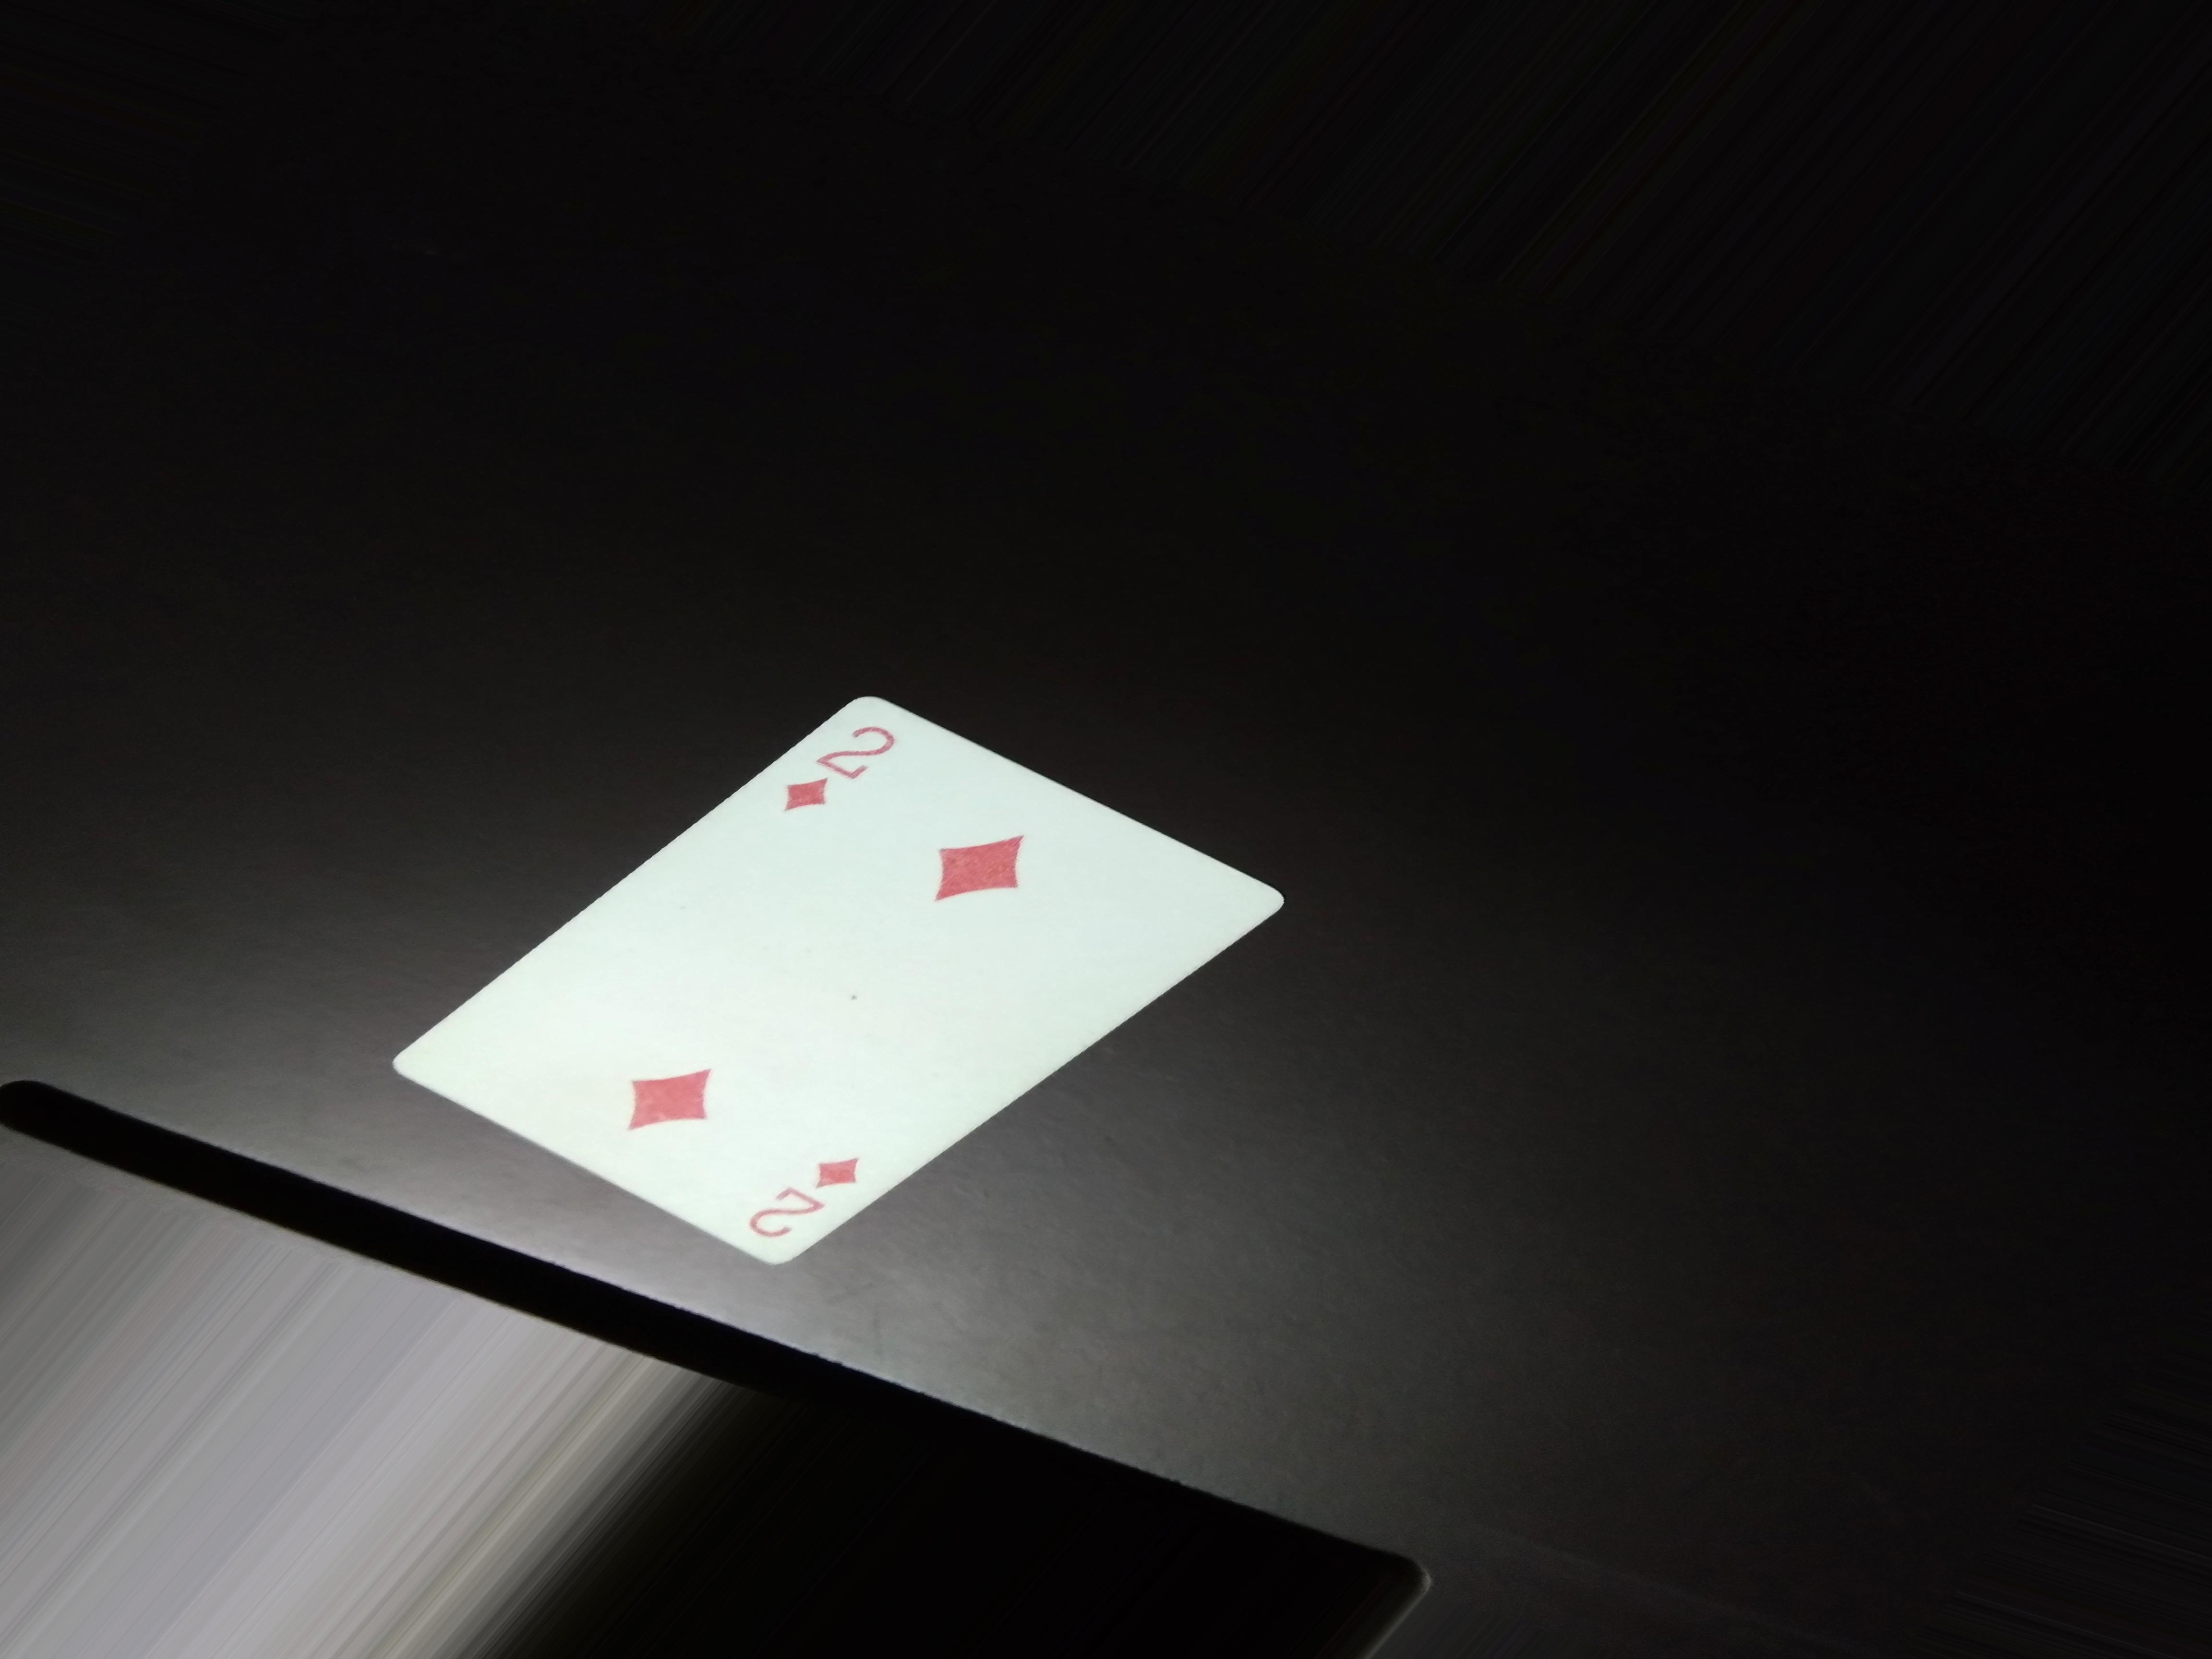2D: (761, 1131, 873, 1258)
